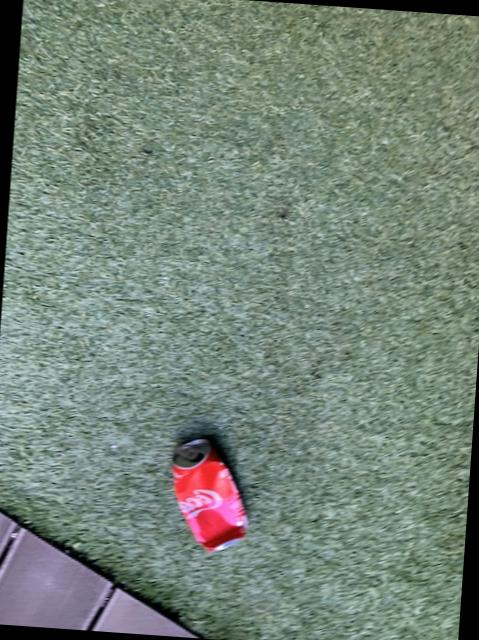metal: (172, 438, 247, 549)
